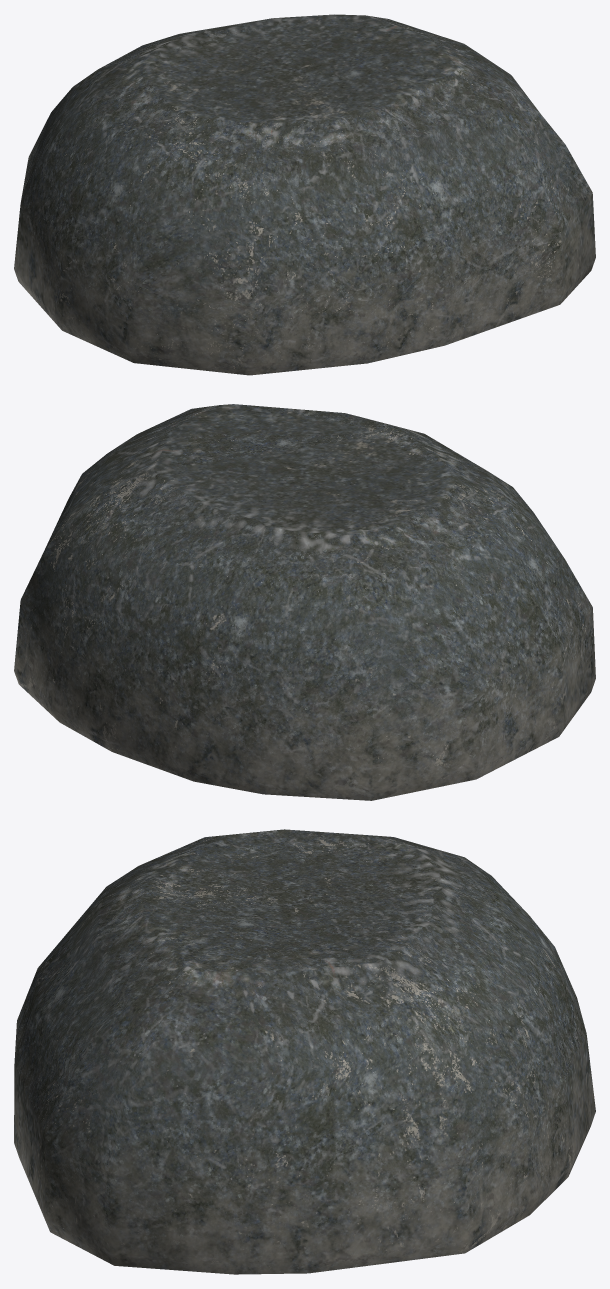
The model's file is SM_Cornerstone01b.fbx.
3 renders of one model, top to bottom at view 1: azimuth 30°, elevation 25°; view 2: azimuth 150°, elevation 25°; view 3: azimuth 270°, elevation 25°, orthographic. The views are drawn at different scales.
Parts seen in each view (by area): view 1: SM_Cornerstone01b; view 2: SM_Cornerstone01b; view 3: SM_Cornerstone01b.
Boxes of the visible parts, bbox=[...] form: SM_Cornerstone01b: bbox=[14, 14, 595, 375]; SM_Cornerstone01b: bbox=[14, 404, 595, 800]; SM_Cornerstone01b: bbox=[14, 829, 595, 1274].
Size of the model in its own units: 88.18 by 78.13 by 35.76.
1 material, 1 textured.
